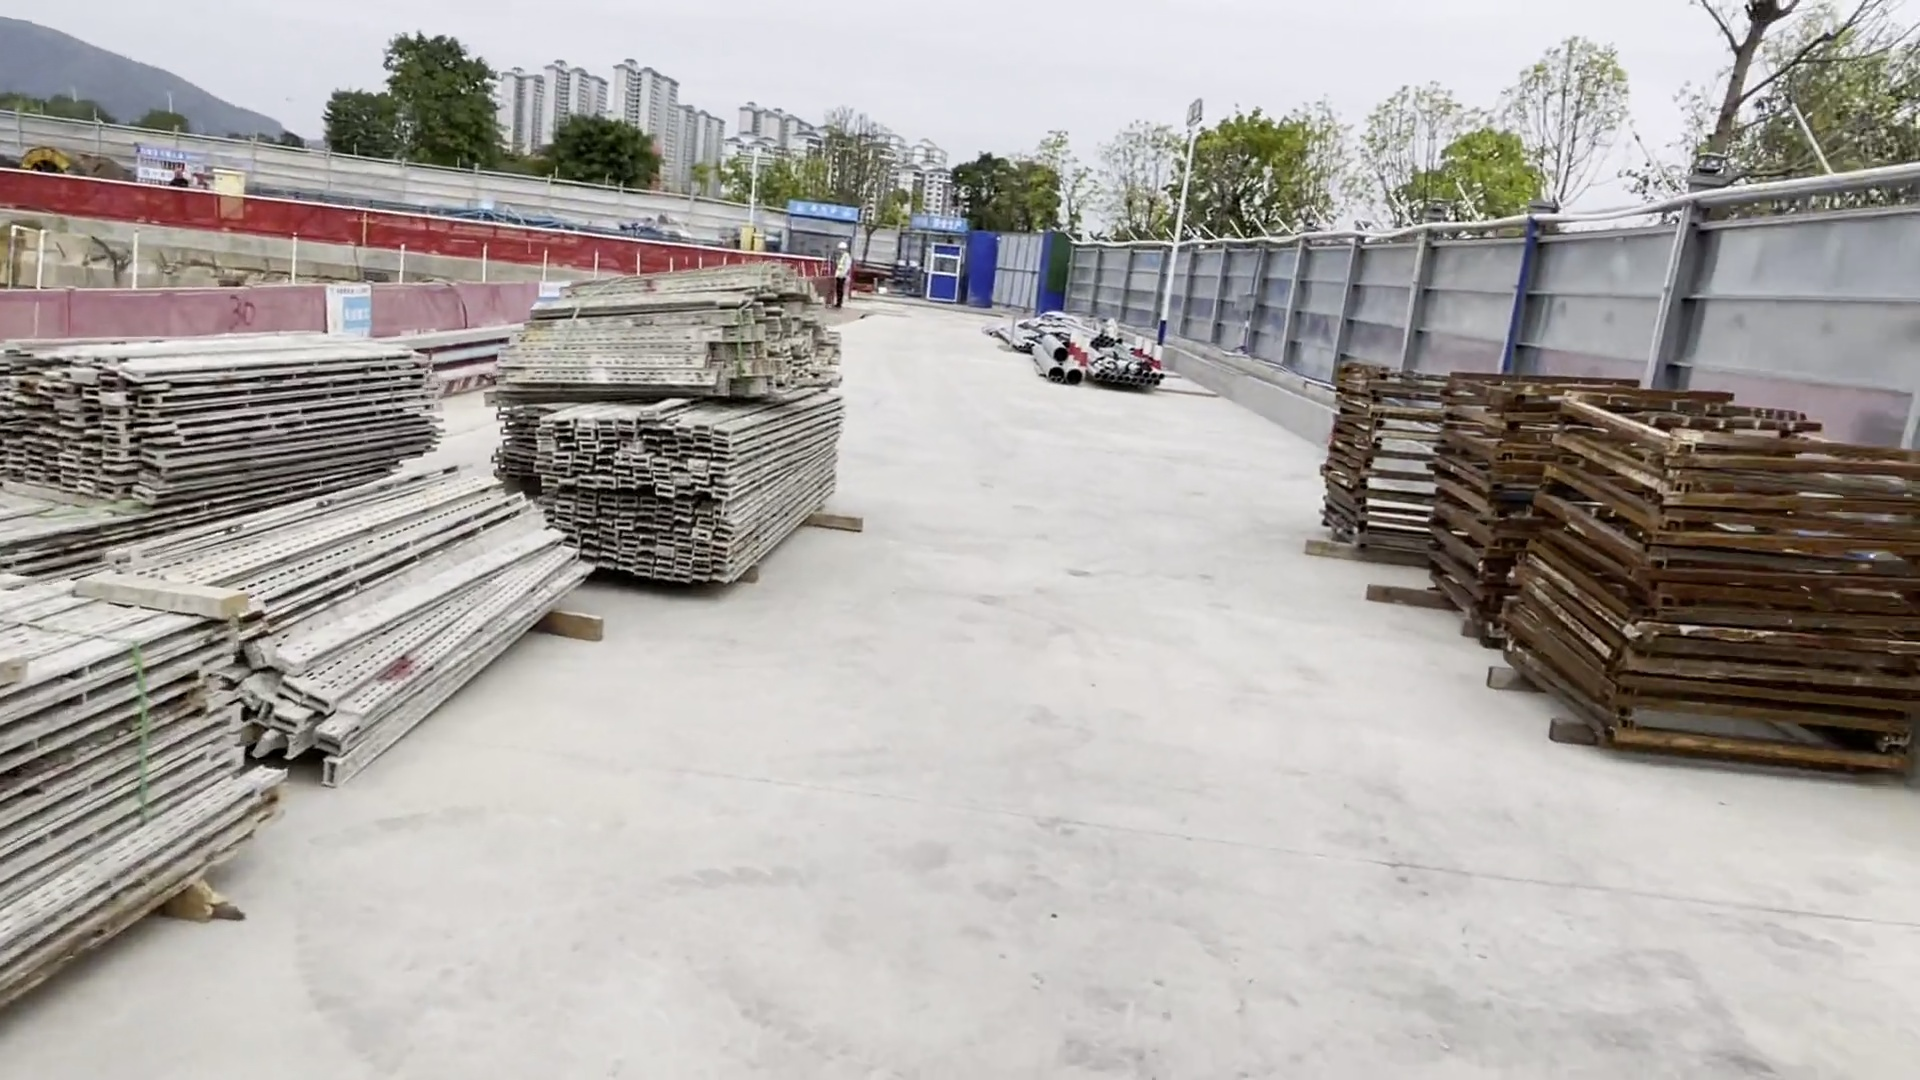helmet: (839, 241, 848, 248)
person: (831, 241, 851, 308)
vest: (836, 253, 852, 279)
